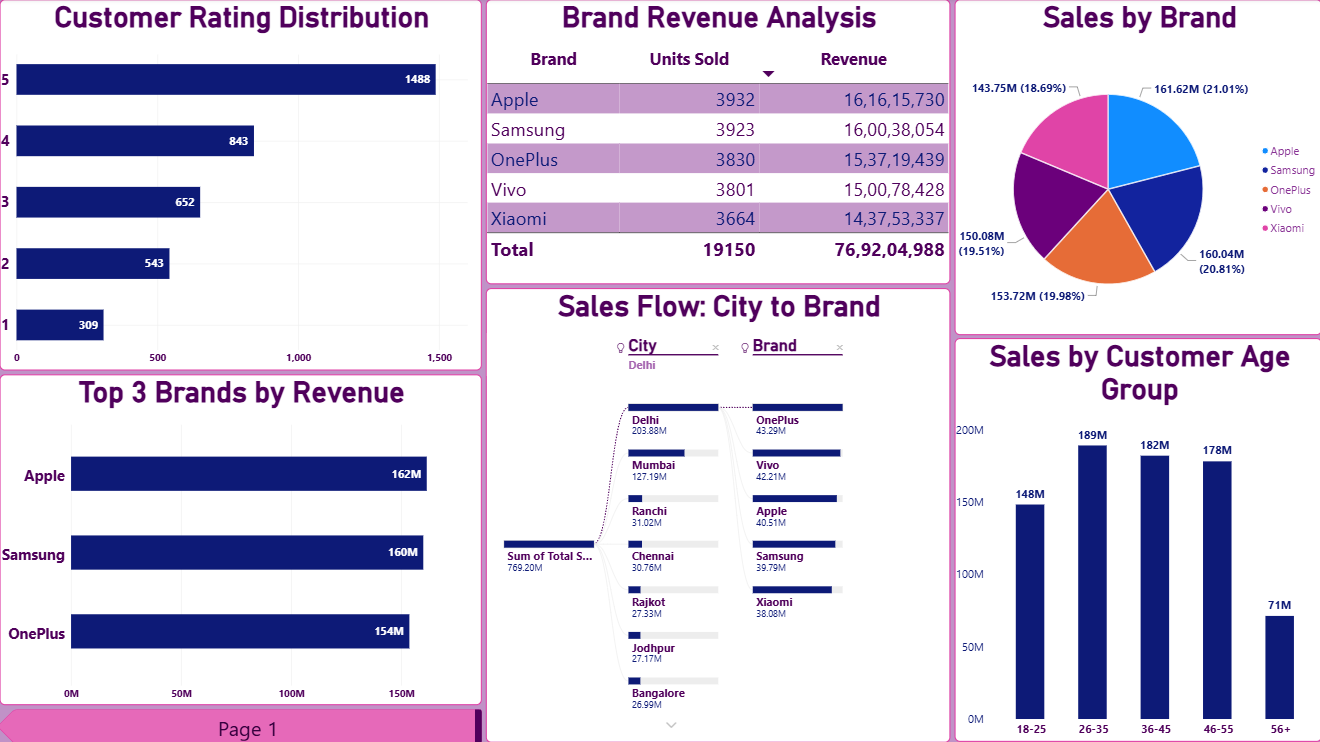

What the dashboard file says about the page in this screenshot:
{"tool":"powerbi","page":{"name":"Page 2","canvas":[1920,1080],"ordinal":1},"visuals":[{"type":"clusteredBarChart","title":"Customer Rating Distribution","fields":{"Category":["Monthly_sales.Customer Ratings"],"Y":["CountNonNull(Monthly_sales.Customer Ratings)"]},"box":[3.6,1.8,698.5,537.5],"z":0},{"type":"barChart","title":"Top 3 Brands by Revenue","fields":{"Category":["Monthly_sales.Brand"],"Y":["Sum(Monthly_sales.Total Sales Price)"]},"box":[3.6,544.7,698.5,479.6],"z":1000},{"type":"tableEx","title":"Brand Revenue Analysis","fields":{"Values":["Monthly_sales.Brand","Sum(Monthly_sales.Units Sold)","Sum(Monthly_sales.Total Sales Price)"]},"box":[707.6,1.8,673.2,412.6],"z":2000},{"type":"decompositionTreeVisual","title":"Sales Flow: City to Brand","fields":{"Analyze":["Sum(Monthly_sales.Total Sales Price)"],"ExplainBy":["Monthly_sales.City","Monthly_sales.Brand"]},"box":[707.6,419.8,673.2,658],"z":3000},{"type":"pageNavigator","box":[0,1029.7,702.1,50.7],"z":4000},{"type":"pieChart","title":"Sales by Brand","fields":{"Category":["Monthly_sales.Brand"],"Y":["Sum(Monthly_sales.Total Sales Price)"]},"box":[1386.1,1.8,533.8,486.8],"z":5000},{"type":"clusteredColumnChart","title":"Sales by Customer Age Group","fields":{"Category":["Monthly_sales.Customer Age Group"],"Y":["Sum(Monthly_sales.Total Sales Price)"]},"box":[1386.2,492.2,533.8,585],"z":6000}]}

Visuals, with their boxes in screenshot pixels (x1, y1, x2, y2), scaled from the page's 1920x1080 canvas onto the 1320x742 screenshot:
"Customer Rating Distribution" clusteredBarChart: <box>2,1,483,371</box>
"Top 3 Brands by Revenue" barChart: <box>2,374,483,704</box>
"Brand Revenue Analysis" tableEx: <box>486,1,949,285</box>
"Sales Flow: City to Brand" decompositionTreeVisual: <box>486,288,949,740</box>
pageNavigator: <box>0,707,483,741</box>
"Sales by Brand" pieChart: <box>953,1,1319,336</box>
"Sales by Customer Age Group" clusteredColumnChart: <box>953,338,1319,740</box>
